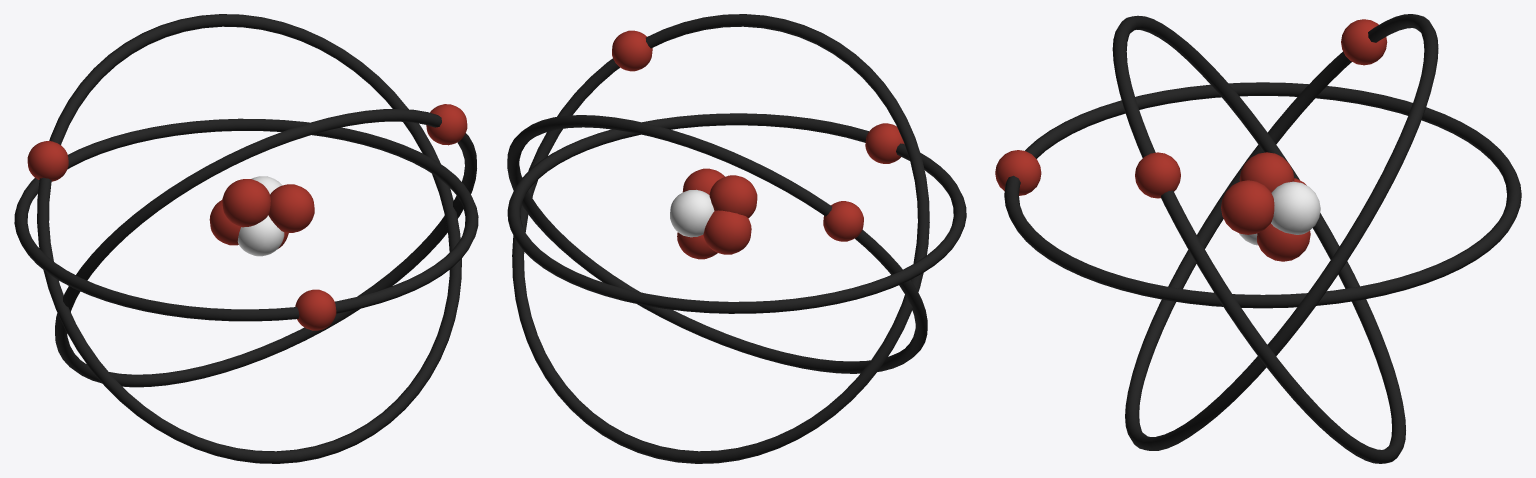
The model's file is Atom.fbx.
3 views of the same model, side by side, from view 1: azimuth 30°, elevation 25°; view 2: azimuth 150°, elevation 25°; view 3: azimuth 270°, elevation 25° (orthographic). The views are drawn at different scales.
Visible parts, largest first — view 1: Torus.002, Torus, Torus.001, Icosphere; view 2: Torus.001, Torus, Torus.002, Icosphere; view 3: Torus, Torus.001, Torus.002, Icosphere.
Boxes of the visible parts, x1,y1,x2,y2 form: Torus.002: [27, 14, 461, 463]; Torus: [14, 118, 478, 330]; Torus.001: [55, 104, 476, 387]; Icosphere: [209, 176, 314, 256]; Torus.001: [512, 14, 929, 463]; Torus: [507, 113, 966, 313]; Torus.002: [507, 115, 927, 373]; Icosphere: [670, 168, 757, 259]; Torus: [995, 82, 1521, 308]; Torus.001: [1112, 15, 1405, 463]; Torus.002: [1125, 14, 1438, 450]; Icosphere: [1221, 152, 1320, 261].
Size of the model in its own units: 1327 by 1061 by 1293.
